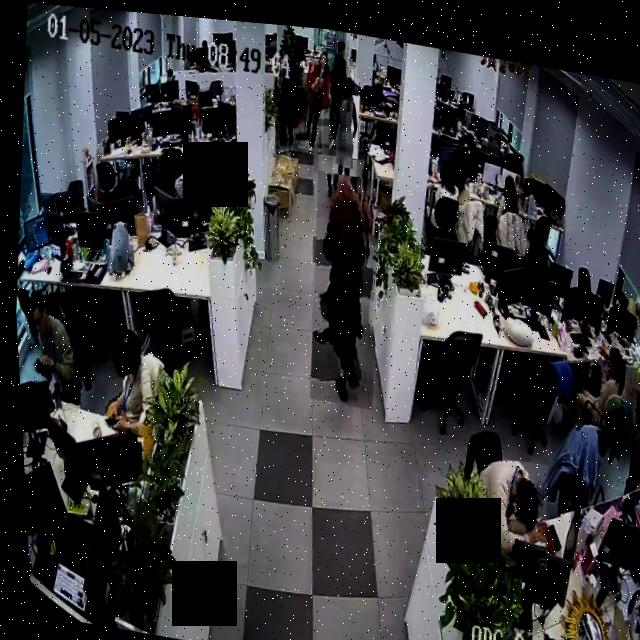person: (296, 163, 388, 405), (467, 444, 547, 554), (17, 286, 83, 412), (558, 329, 640, 429), (95, 324, 167, 437), (324, 67, 364, 197), (292, 36, 336, 151), (316, 30, 353, 146), (271, 37, 307, 148), (486, 162, 529, 247), (430, 149, 464, 211), (170, 150, 212, 199), (181, 78, 207, 123)
